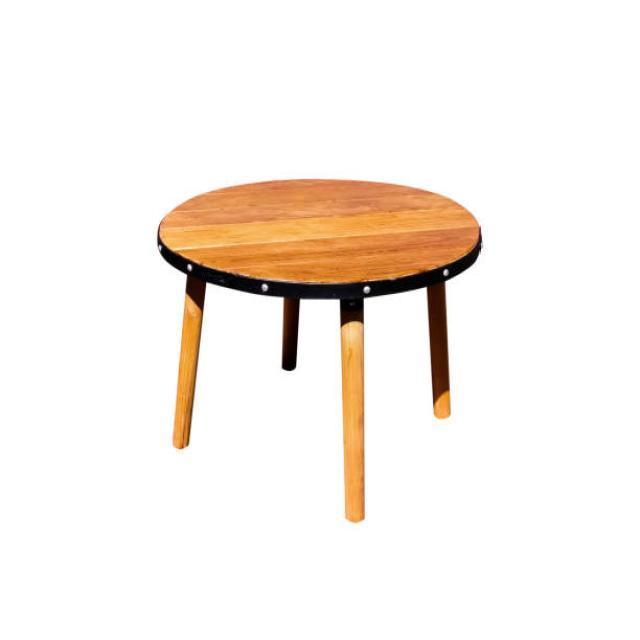table: (156, 177, 482, 522)
